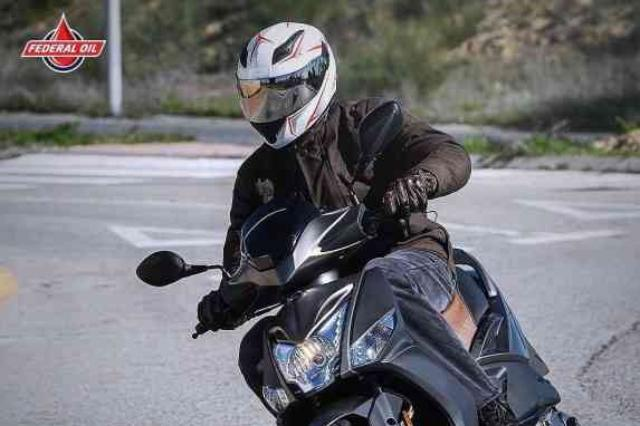helm: (235, 21, 339, 147)
motor: (136, 183, 584, 426)
